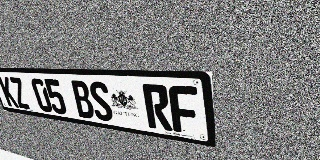0: (30, 78, 54, 113)
5: (43, 79, 68, 115)
B: (69, 80, 96, 119)
F: (168, 85, 200, 135)
K: (0, 76, 19, 108)
R: (142, 84, 173, 131)
S: (87, 81, 115, 122)
Z: (8, 77, 31, 109)
